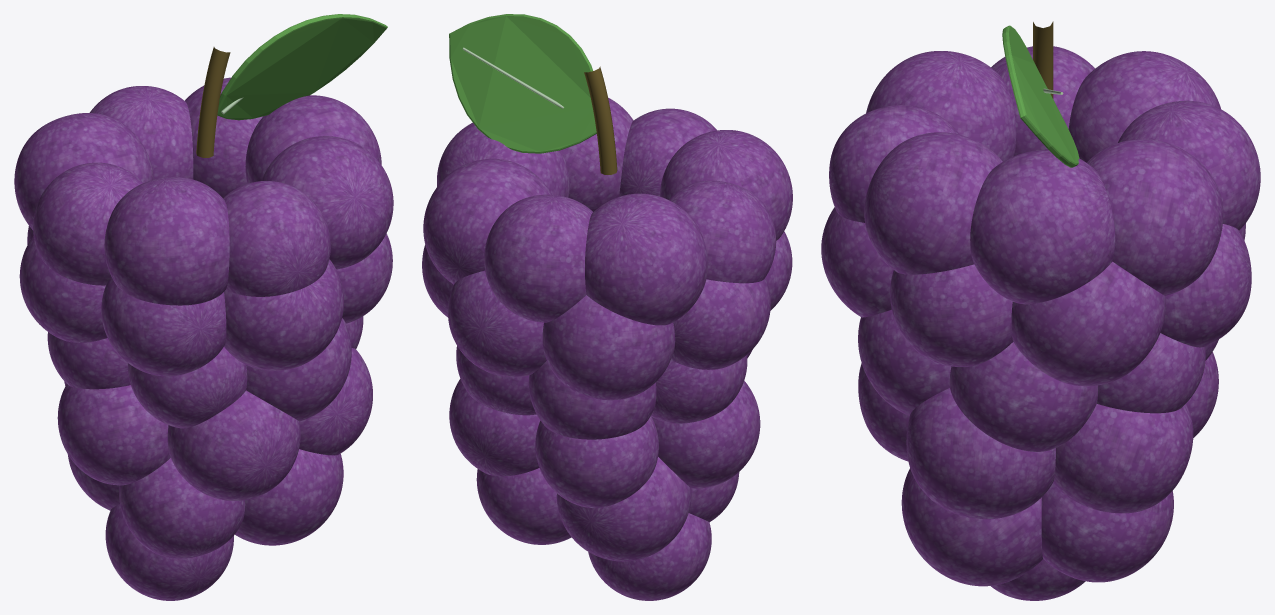
Rendered from grape.glb.
The picture shows the model from 3 angles, left to right: view 1: azimuth 30°, elevation 25°; view 2: azimuth 150°, elevation 25°; view 3: azimuth 270°, elevation 25°; orthographic projection. The views are drawn at different scales.
Size of the model in its own units: 0.0965 by 0.1503 by 0.0949.
4 materials, 1 textured.
